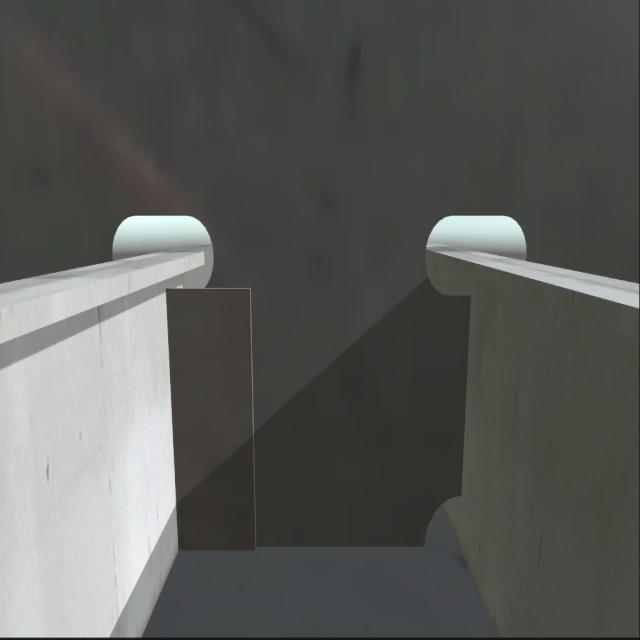fillet_hole: (423, 492, 460, 553)
fillet_yong_jeop_jang: (180, 532, 430, 560)
longi_yong_jeop_jang: (453, 293, 480, 502), (163, 274, 182, 546)
plate_CP01: (172, 284, 253, 550)
